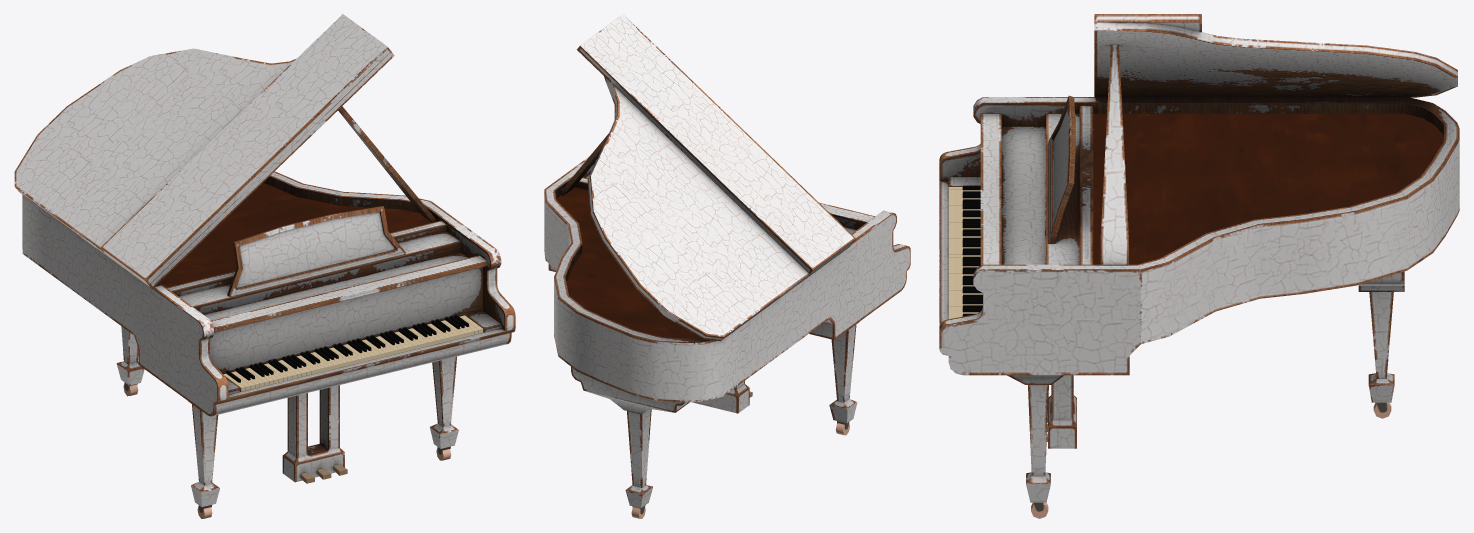
File: piano_old.glb
The picture shows the model from 3 angles, left to right: view 1: azimuth 30°, elevation 25°; view 2: azimuth 150°, elevation 25°; view 3: azimuth 270°, elevation 25°; orthographic projection. The views are drawn at different scales.
Parts seen in each view (by area): view 1: Cap, Front, body, Cap2, Note, Cube.002, leg, key_whait, key_black.001, Stick, key_black.002, leg_back (+1 smaller); view 2: Cap, body, Cap2, Front, leg_back, leg, Cube.002, Stick; view 3: body, Front, Cap, Stick, leg_back, Note, leg, key_whait, Cube.002, key_black.001, Cap2, key_black.002.
Boxes of the visible parts, box(x1,y1,x2,y2) form: Cap: box(14, 48, 394, 288); Front: box(159, 183, 487, 374); body: box(22, 171, 515, 416); Cap2: box(100, 14, 390, 284); Note: box(227, 206, 405, 296); Cube.002: box(282, 385, 344, 482); leg: box(188, 356, 458, 506); key_whait: box(223, 315, 483, 391); key_black.001: box(250, 315, 469, 376); Stick: box(338, 106, 436, 222); key_black.002: box(235, 319, 450, 380); leg_back: box(116, 326, 144, 385); Cap: box(587, 76, 852, 341); body: box(544, 156, 910, 402); Cap2: box(577, 14, 855, 273); Front: box(556, 174, 874, 338); leg_back: box(571, 367, 689, 508); leg: box(829, 321, 859, 423); Cube.002: box(692, 381, 749, 413); Stick: box(559, 133, 608, 196); body: box(939, 97, 1459, 375); Front: box(980, 105, 1443, 265); Cap: box(1094, 22, 1457, 97); Stick: box(1100, 44, 1128, 264); leg_back: box(1358, 271, 1404, 402); Note: box(1048, 95, 1075, 243); leg: box(1007, 375, 1063, 502); key_whait: box(948, 187, 982, 318); Cube.002: box(1048, 375, 1076, 448); key_black.001: box(962, 199, 982, 316); Cap2: box(1094, 14, 1201, 31); key_black.002: box(962, 191, 982, 312).
Size of the model in its own units: 1.51 by 1.91 by 1.86.
7 materials, 7 textured.
